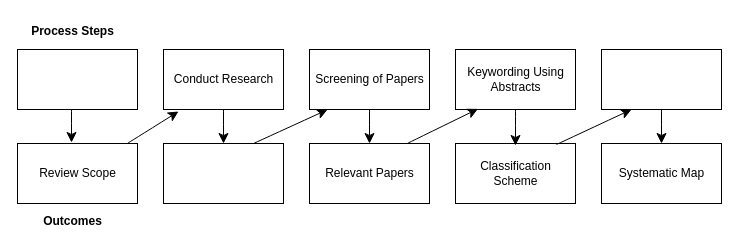
This 739x251 diagram has some shape labels left out. Each missing label, with the centre of its shape:
"All Papers" belongs at point 223,173.
"Data Extraction & Mapping Process" belongs at point 661,79.
"Definition of Research Question" belongs at point 77,79.
